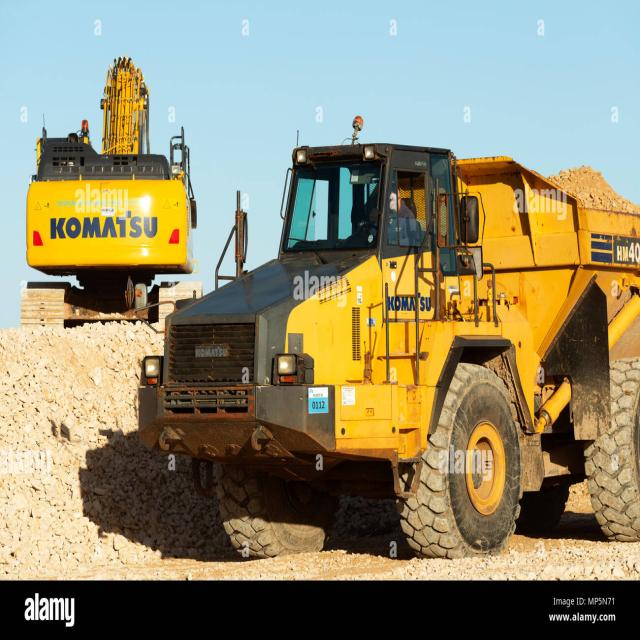excavator: (16, 56, 202, 320)
